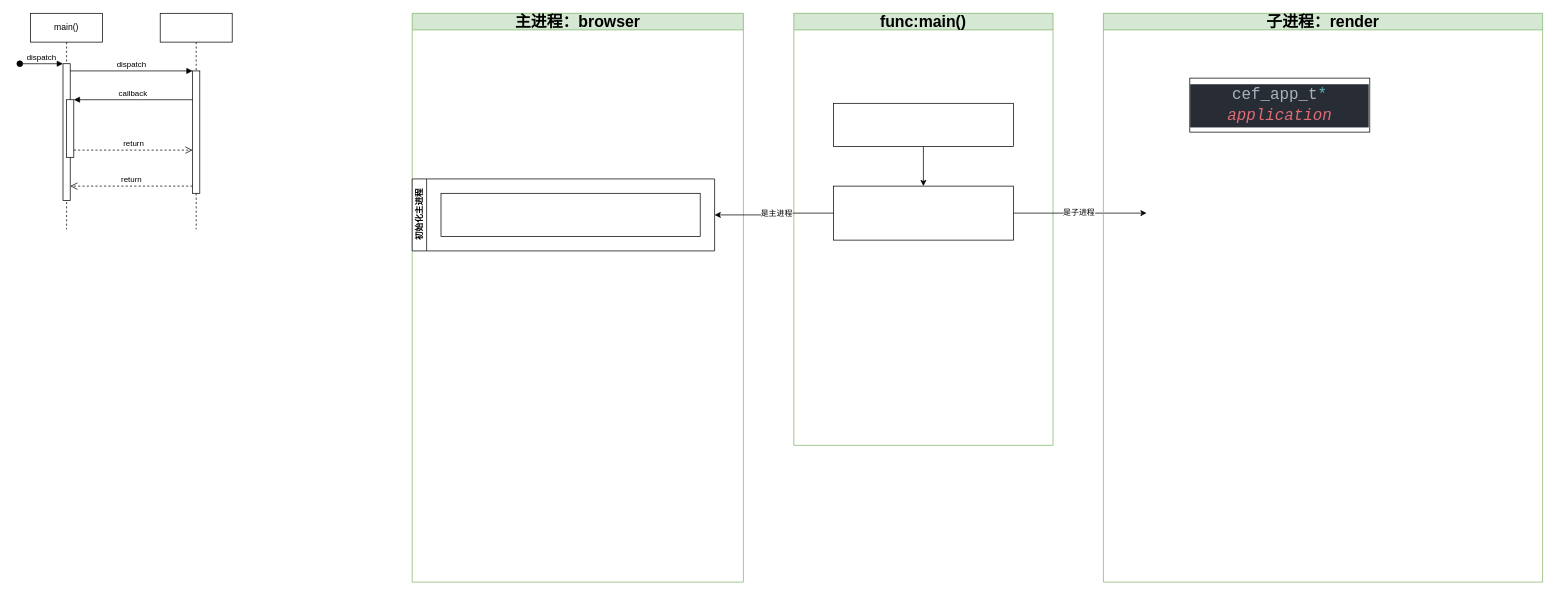
The diagram is 1555 pixels wide and 595 high, and some of its shapes have lost their labels. Each missing label, with the centre of its shape:
"cef_execute_process" belongs at pixel 923 125.
"cef_initialize" belongs at pixel 570 215.
"cef_main_args_t * args" belongs at pixel 923 212.
